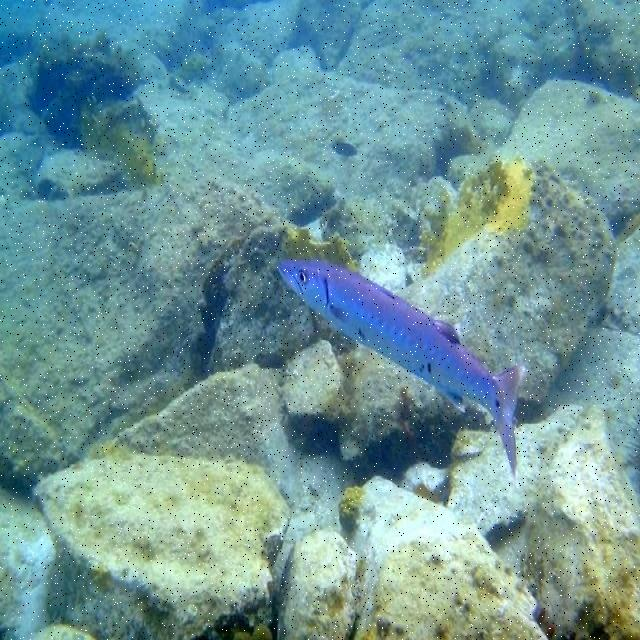fish: (276, 260, 525, 475)
